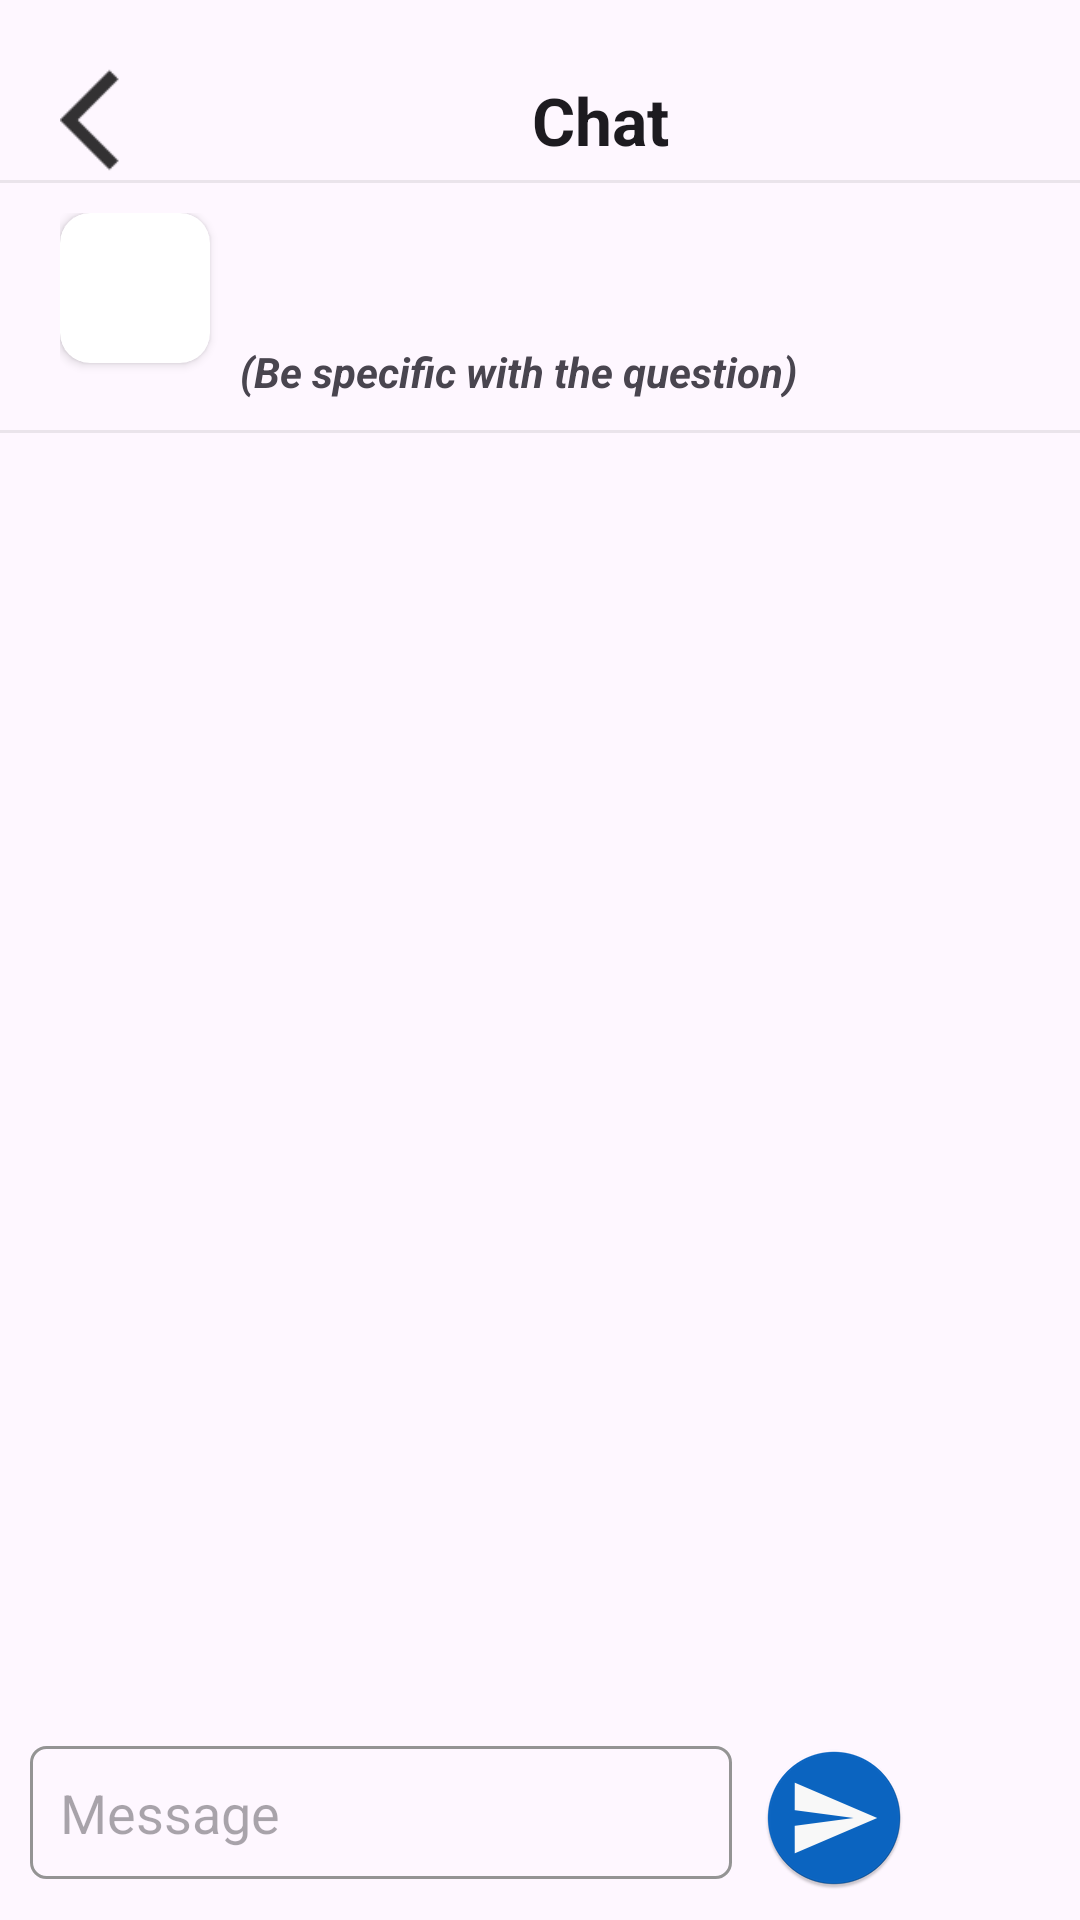

Icon click points for this 1080w x 1920h phone screenshot, format (x=x, y=y):
back: (x=89, y=120)
send: (x=834, y=1819)
